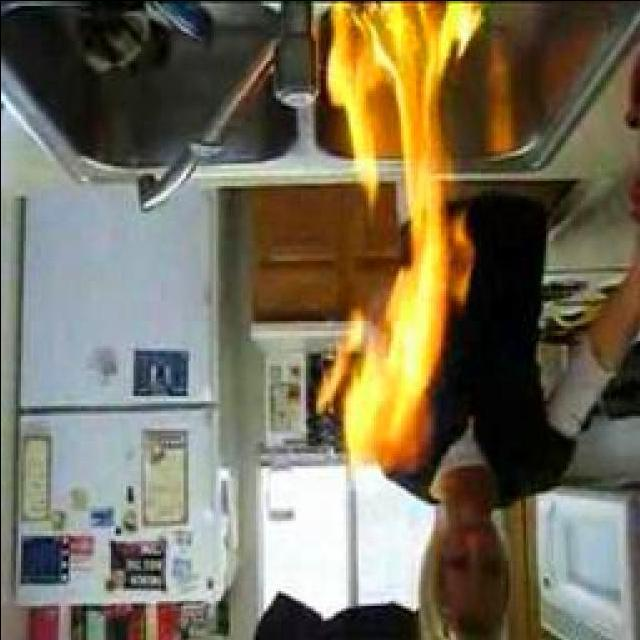Fire: (324, 0, 477, 469)
